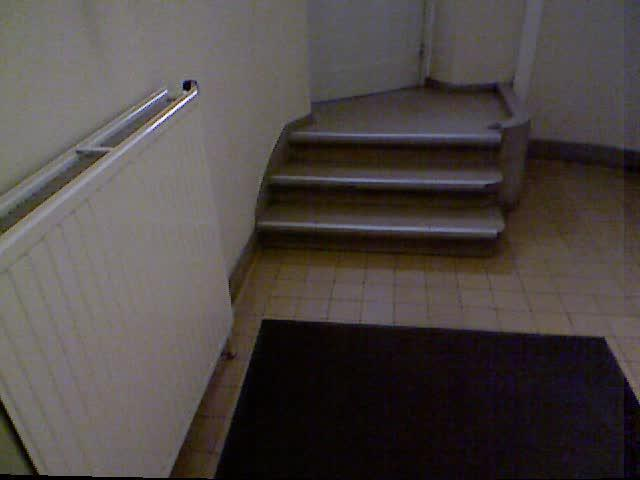Escaleras: (250, 125, 505, 255)
